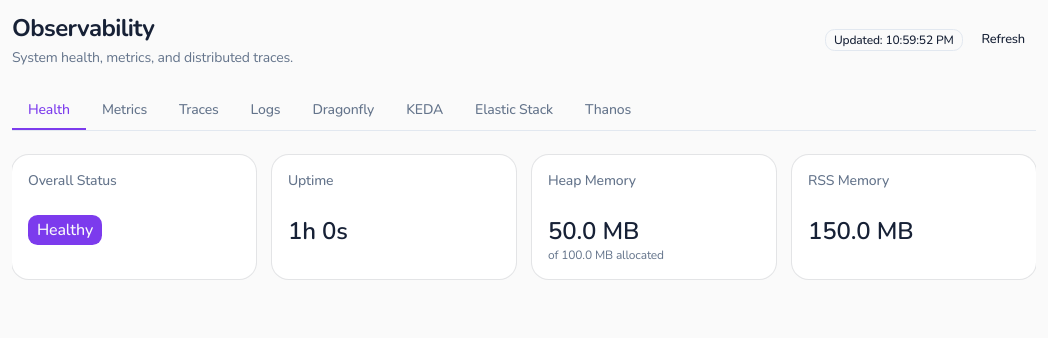
Test case: ObservabilityPage › should switch to Logs tab and show query input
Expected: the text "Overall Status" is shown, [28,171,117,190]
What coordinates should you click on to do the following:
click the button "Logs"
I would click on:
 (266, 111)
Its box is [235,92,296,130].
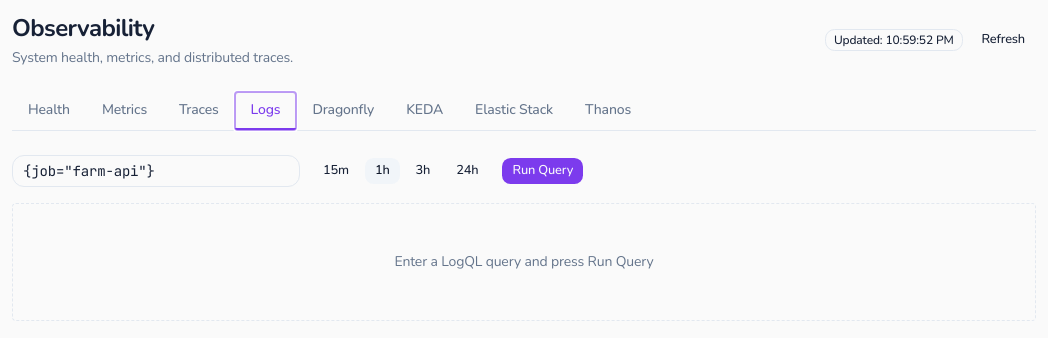
Now the button "Run Query" is shown, box [502,157,584,185]
